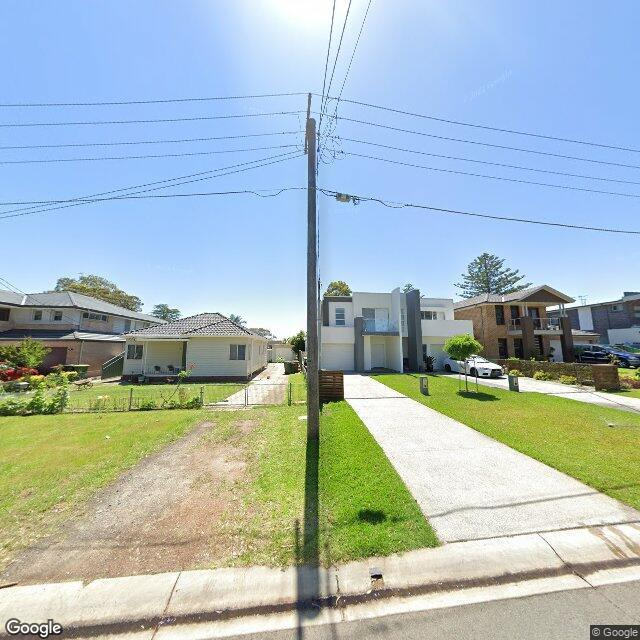crossarm: (304, 92, 312, 158)
timber-pole: (305, 116, 320, 442)
